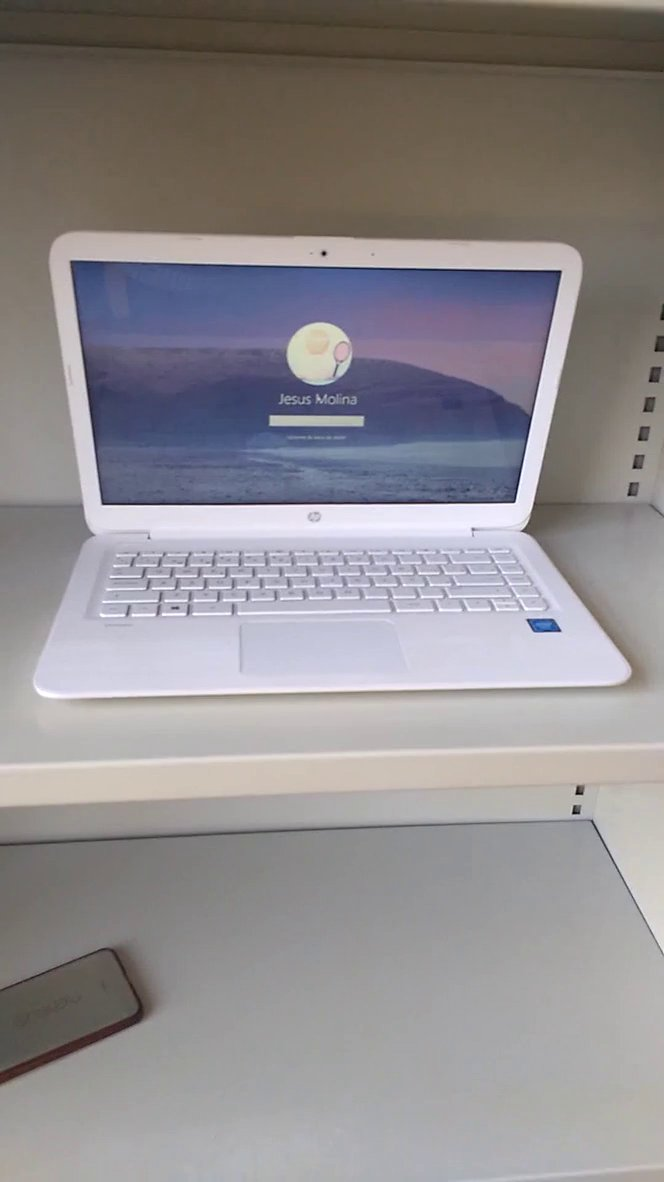laptop: (15, 196, 664, 735)
